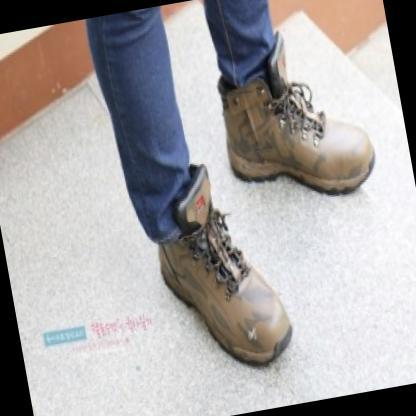safety-shoe: (129, 170, 305, 397), (213, 35, 388, 220)
